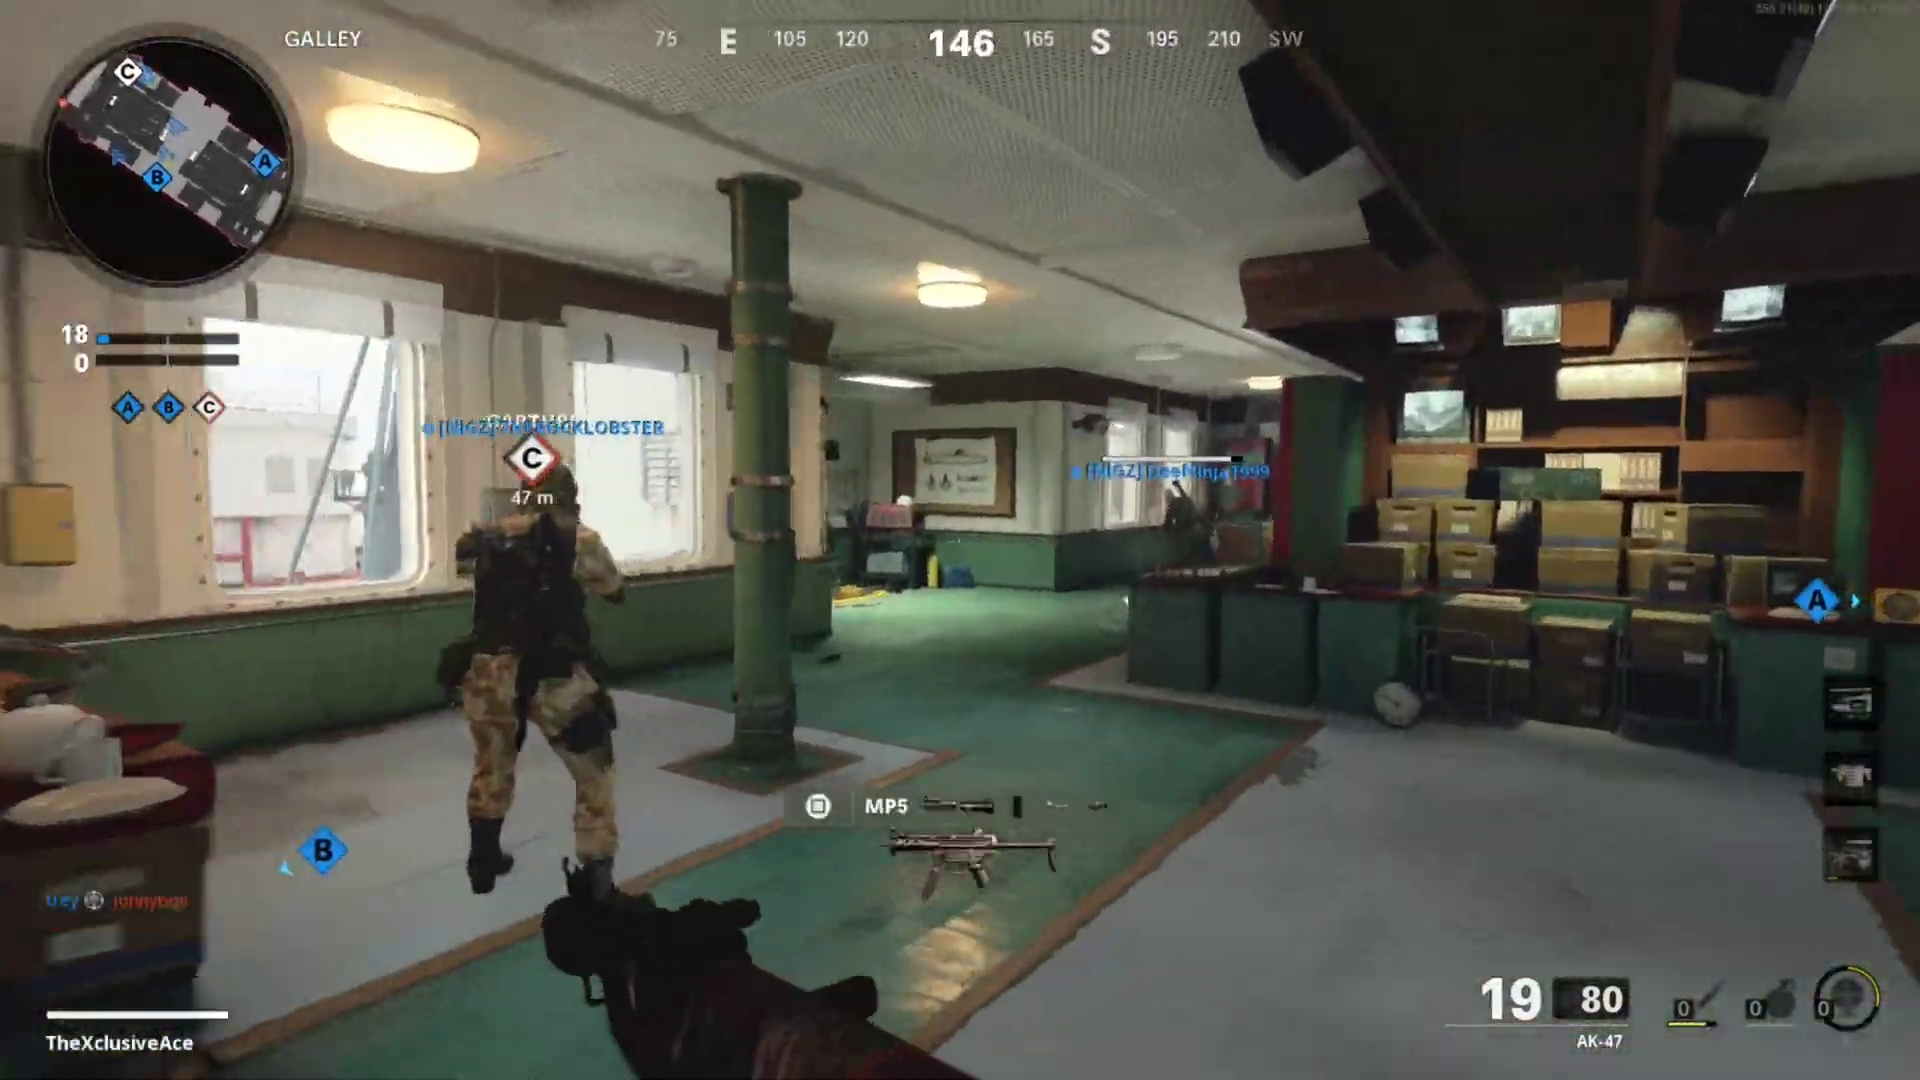head: (508, 431, 558, 494)
person: (435, 444, 633, 895), (1166, 478, 1216, 563)
